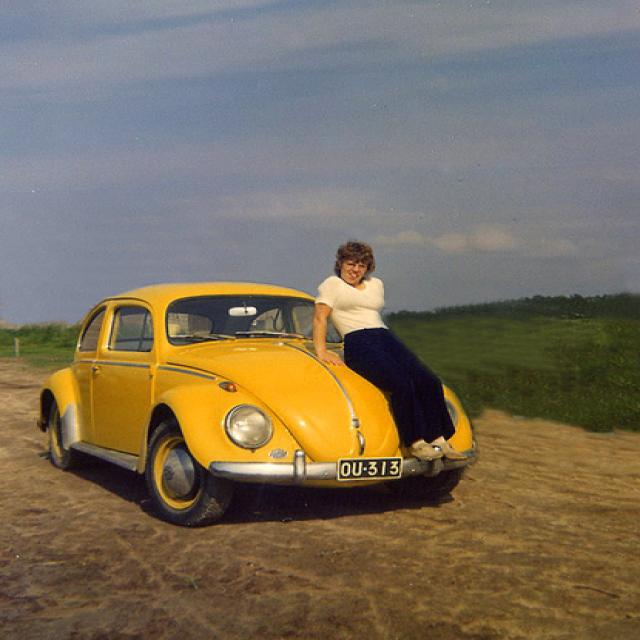Car: (34, 277, 488, 524)
